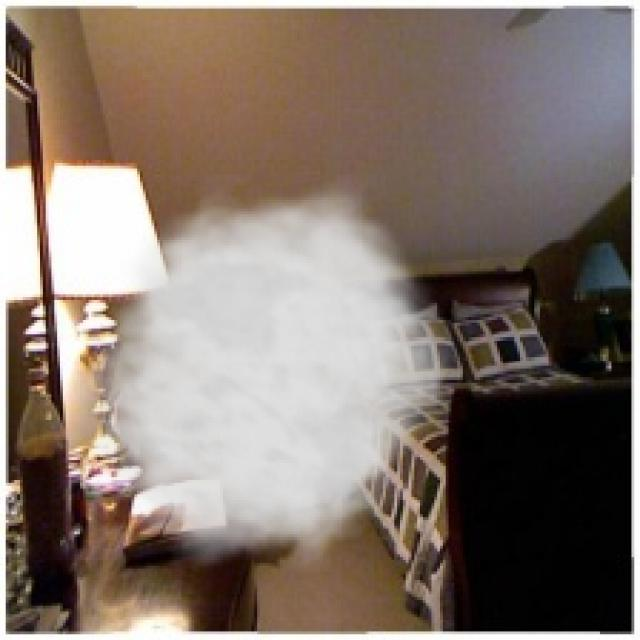Smoke: (66, 174, 460, 572)
